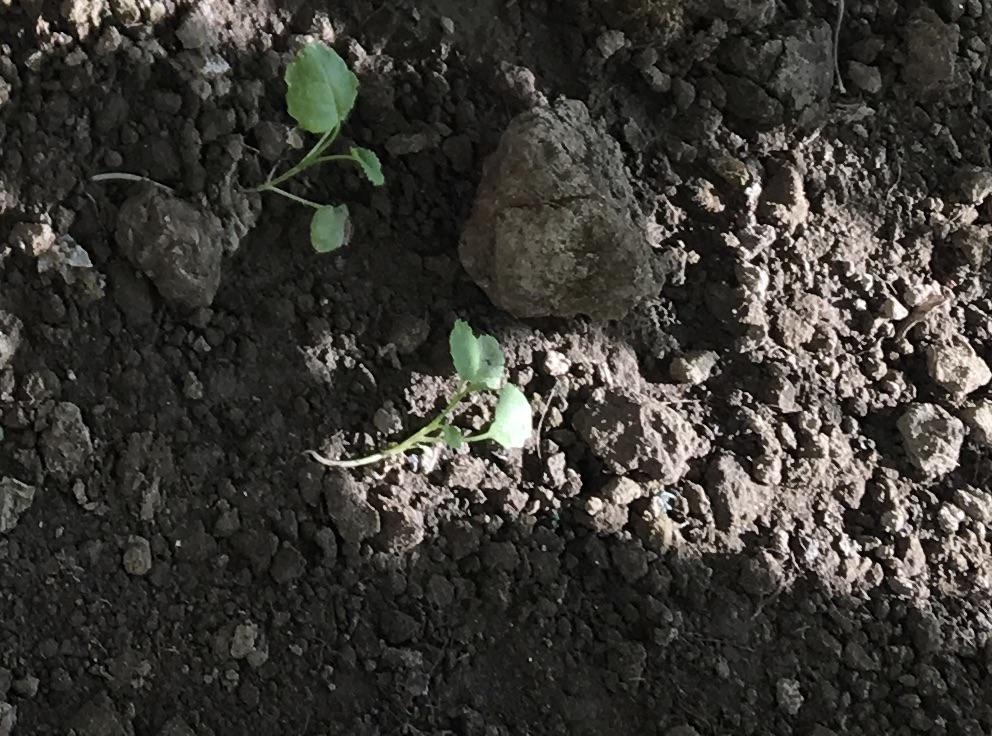block: (450, 102, 661, 319), (110, 185, 227, 315)
